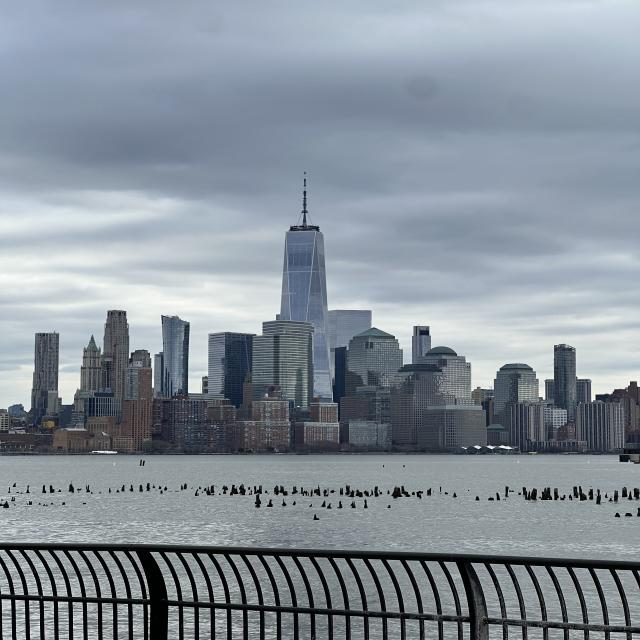WTC: (277, 172, 329, 318)
